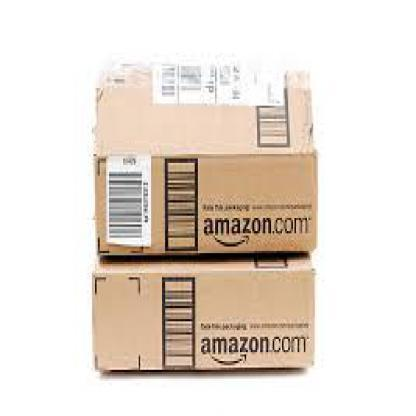package: (97, 65, 317, 257), (93, 257, 317, 375)
